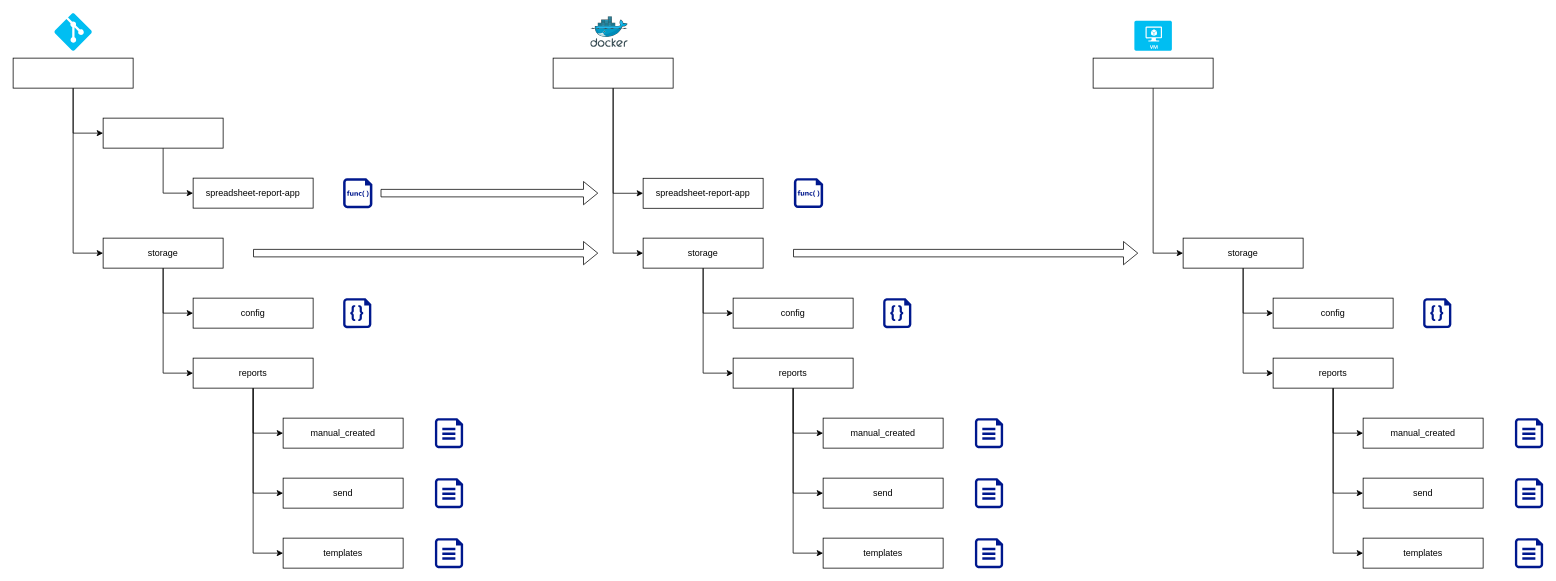
Some shapes in this 1556 by 581 pixel diagram are drawn without their labels. Here are the shapes that lost their labels. From the top down, the centre of each, then its label:
At pixel 72 72: "./gitRepo @local".
At pixel 612 72: "/app @DockerContainer".
At pixel 1152 72: "./StoreagePath @DockerEngineHost".
At pixel 162 132: "src".
